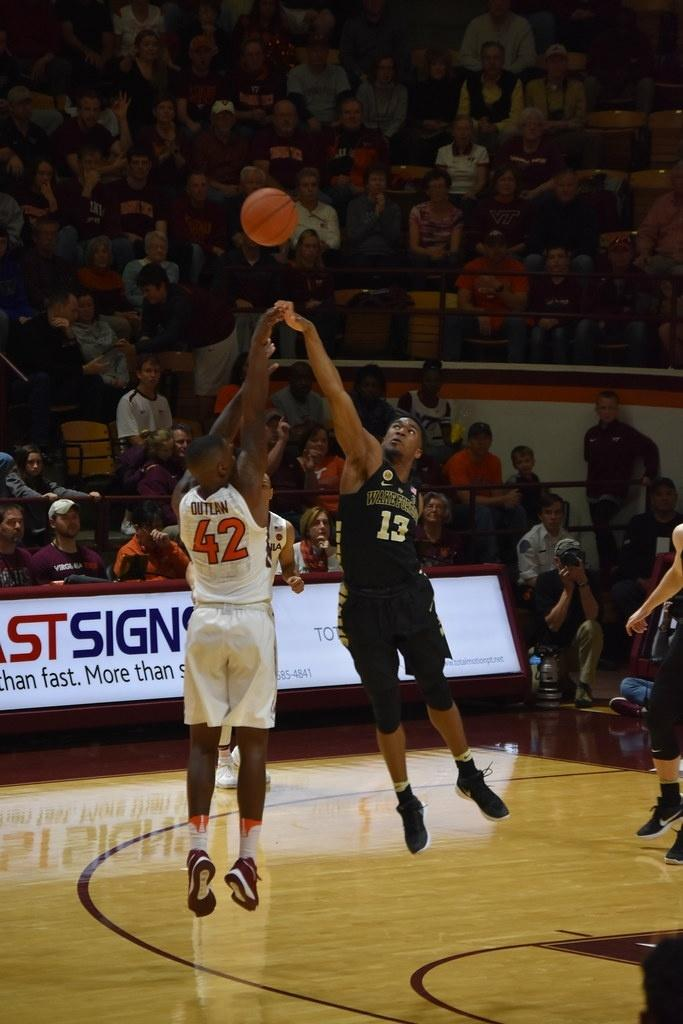basketball-player: (271, 298, 511, 854), (174, 303, 302, 917)
